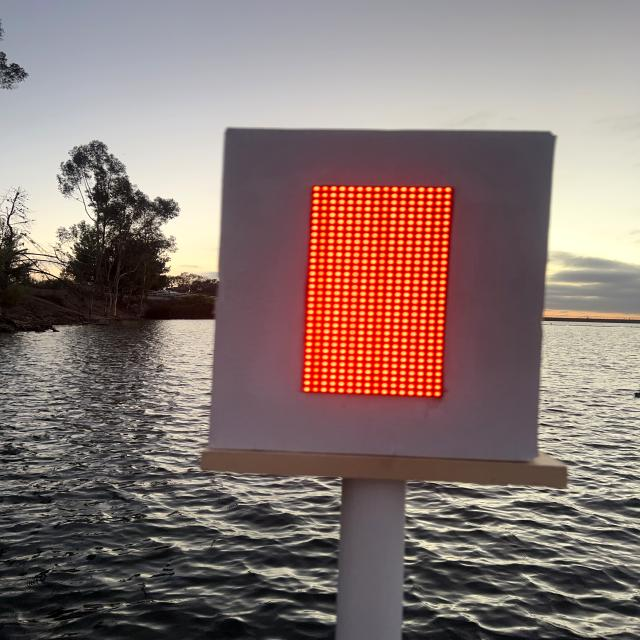led: (242, 157, 410, 436)
